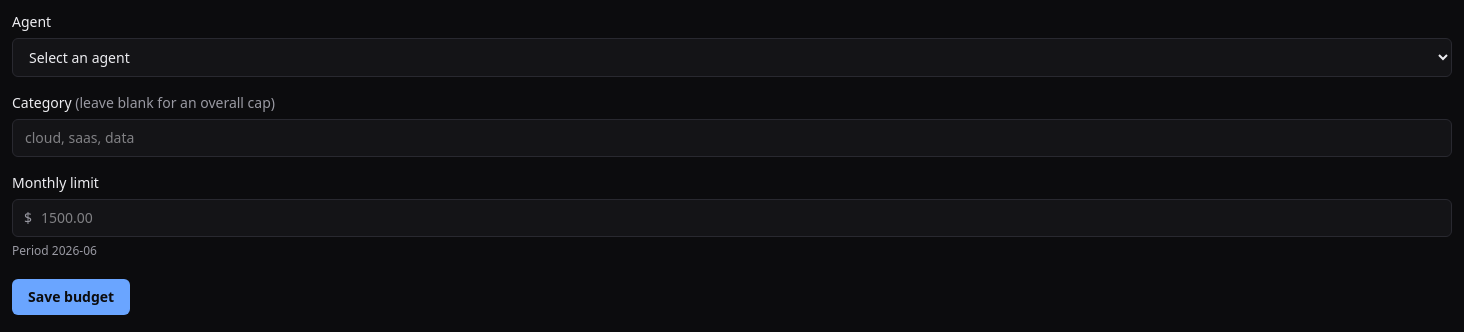
Test: BudgetForm › blocks saving until an agent is chosen
This screenshot has width=1464, height=332.
Click the button "Save budget": (71, 297) [12,279,130,315]
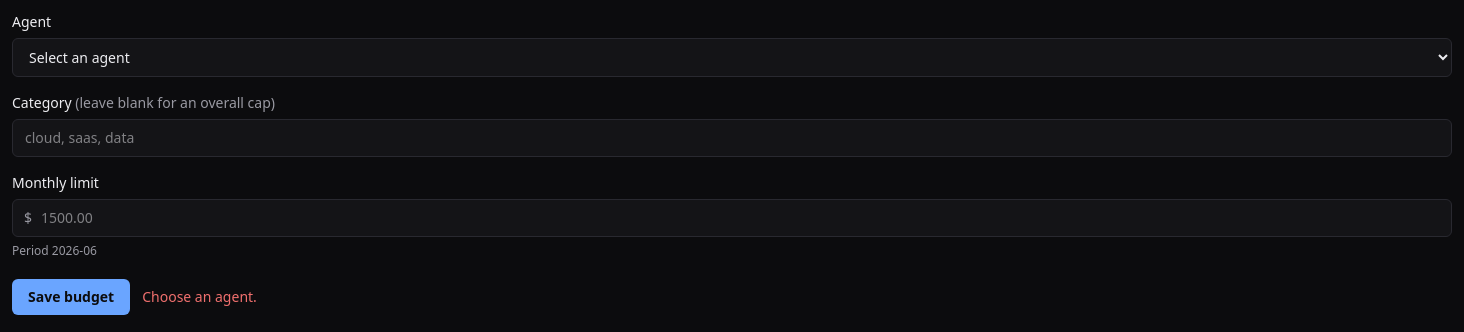
Check: the text "Choose an agent." is shown, box [142,287,257,307]
